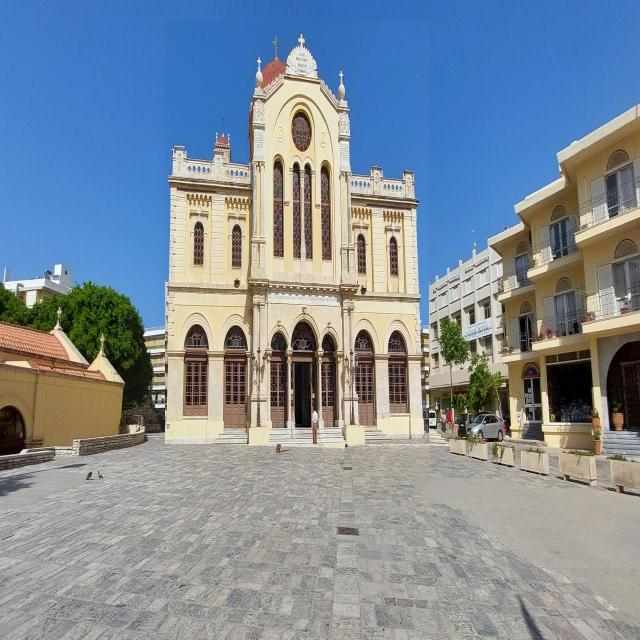Agios Minas: (166, 22, 430, 445)
